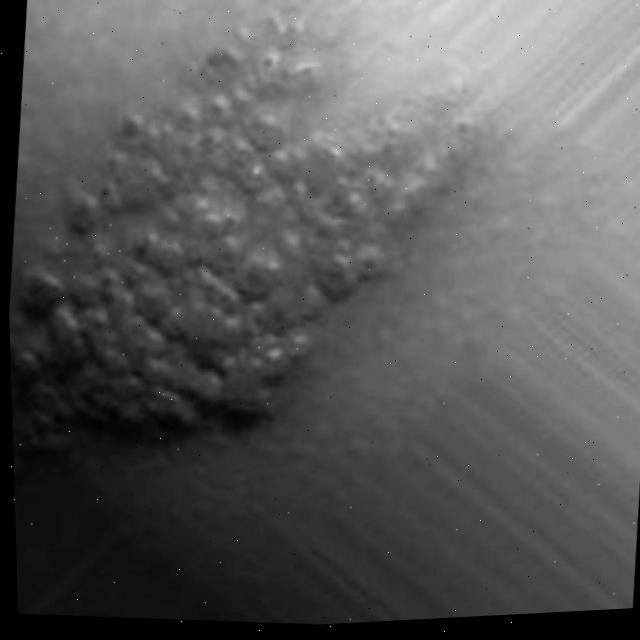Shingles: (1, 11, 468, 471)
